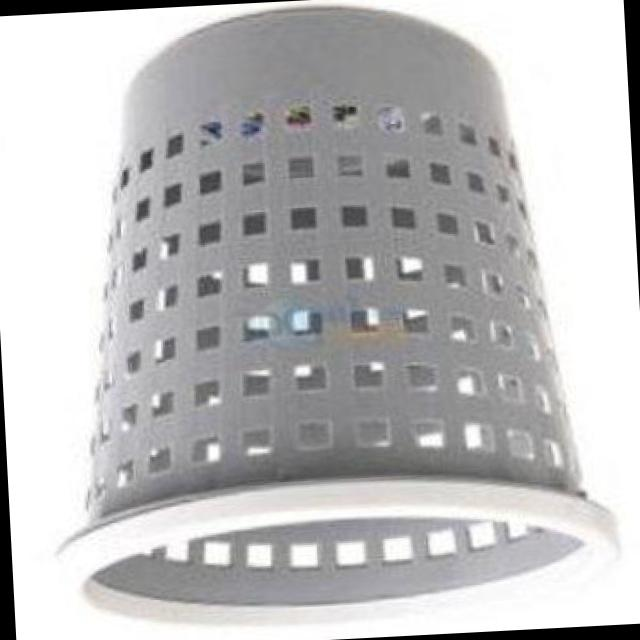dustbin: (19, 0, 631, 640)
